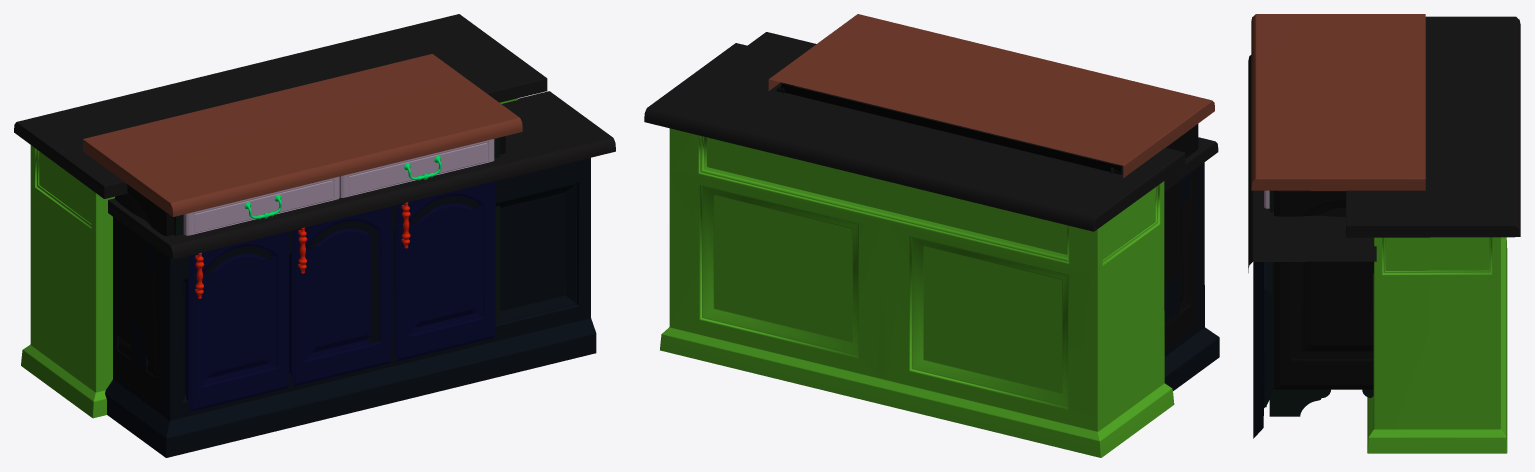
Rendered from additional cabinets.fbx.
The picture shows the model from 3 angles, left to right: view 1: azimuth 30°, elevation 25°; view 2: azimuth 150°, elevation 25°; view 3: azimuth 270°, elevation 25°; orthographic projection. The views are drawn at different scales.
Parts seen in each view (by area): view 1: additonal_cabinet_1, addtional_cabinet_2; view 2: addtional_cabinet_2, additonal_cabinet_1; view 3: addtional_cabinet_2, additonal_cabinet_1.
Boxes of the visible parts, box(x1,y1,x2,y2) form: additonal_cabinet_1: box(83, 54, 522, 411); addtional_cabinet_2: box(14, 14, 615, 457); addtional_cabinet_2: box(644, 32, 1219, 457); additonal_cabinet_1: box(768, 14, 1214, 350); addtional_cabinet_2: box(1248, 16, 1520, 453); additonal_cabinet_1: box(1251, 14, 1425, 416).
Size of the model in its own units: 193 by 101 by 102.
